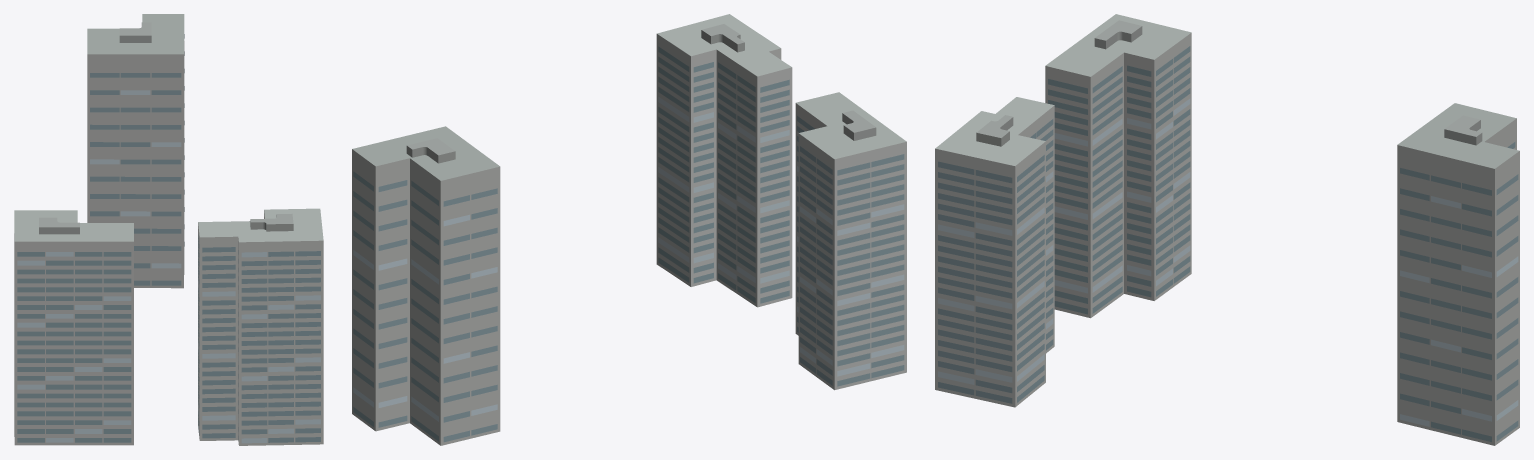
Rendered from apt-a10027748.glb.
3 views of the same model, side by side, from view 1: azimuth 30°, elevation 25°; view 2: azimuth 150°, elevation 25°; view 3: azimuth 270°, elevation 25° (orthographic). The views are drawn at different scales.
Visible parts, largest first — view 1: apt-a10027748; view 2: apt-a10027748; view 3: apt-a10027748.
Part boxes in pixels (x1,y1,x2,y2): apt-a10027748: (14,14,323,445); apt-a10027748: (352,14,906,445); apt-a10027748: (935,14,1519,445).
Size of the model in its own units: 115 by 80 by 148.
